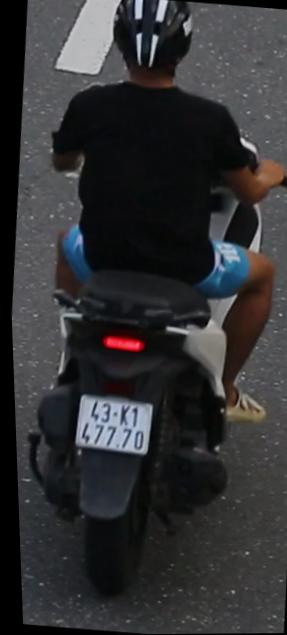LP: (68, 386, 155, 461)
helmet: (101, 0, 205, 75)
